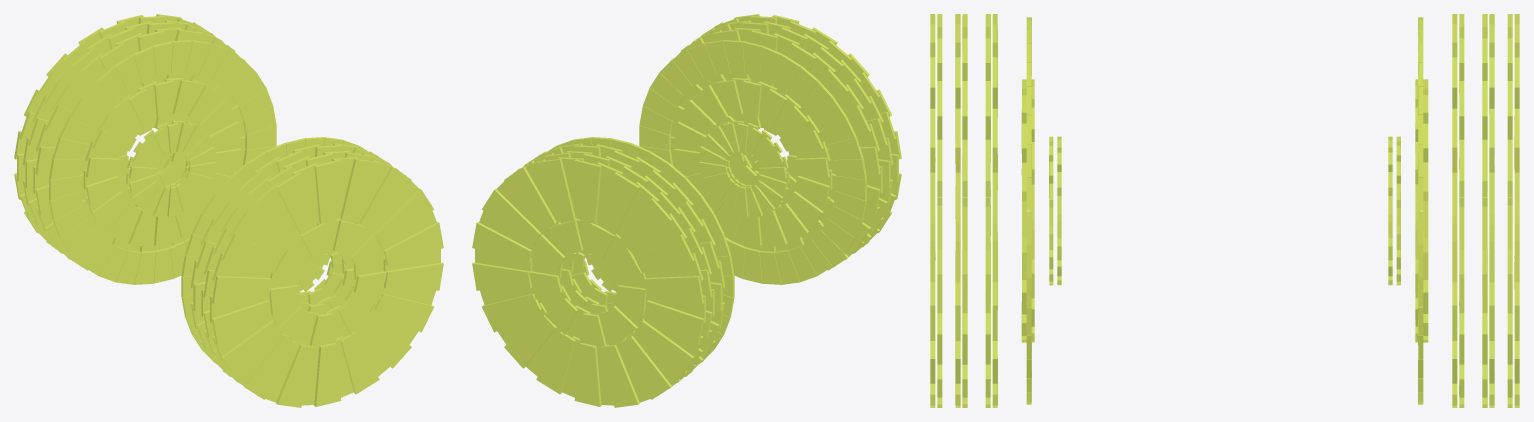
Rendered from CSC3D_V1.glb.
3 views of the same model, side by side, from view 1: azimuth 30°, elevation 25°; view 2: azimuth 150°, elevation 25°; view 3: azimuth 270°, elevation 25° (orthographic). The views are drawn at different scales.
Parts seen in each view (by area): view 1: CSC3D_V1; view 2: CSC3D_V1; view 3: CSC3D_V1.
Boxes of the visible parts, x1,y1,x2,y2 form: CSC3D_V1: [14, 14, 443, 407]; CSC3D_V1: [472, 14, 901, 407]; CSC3D_V1: [930, 14, 1519, 407].
Bounding box in the file's own units: 13.96 × 13.96 × 20.93.
